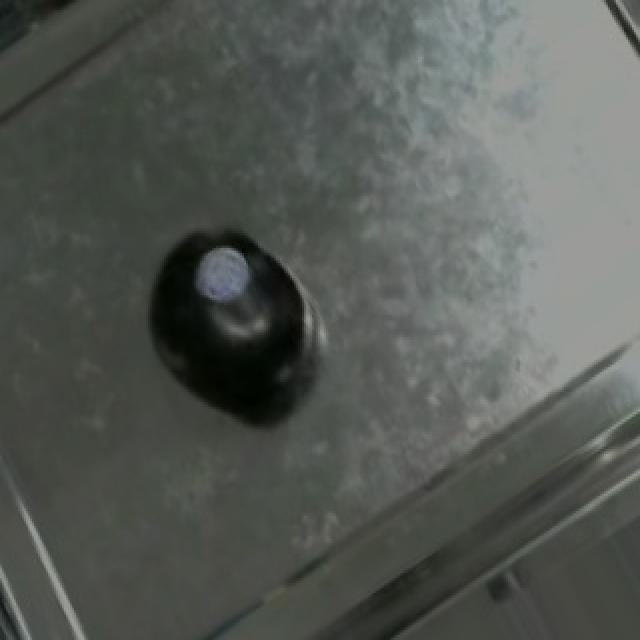Fruit: (150, 221, 330, 424)
